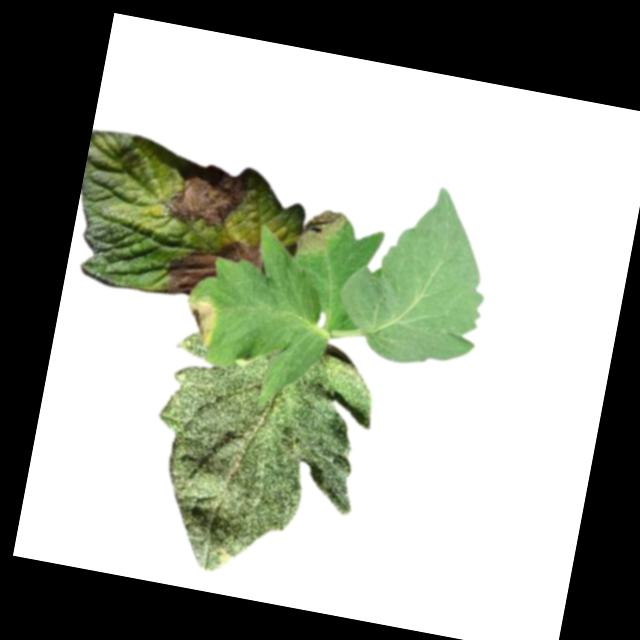Late_blight: (162, 162, 249, 231), (160, 245, 220, 302), (294, 203, 347, 264), (179, 294, 219, 347), (214, 233, 268, 272)
